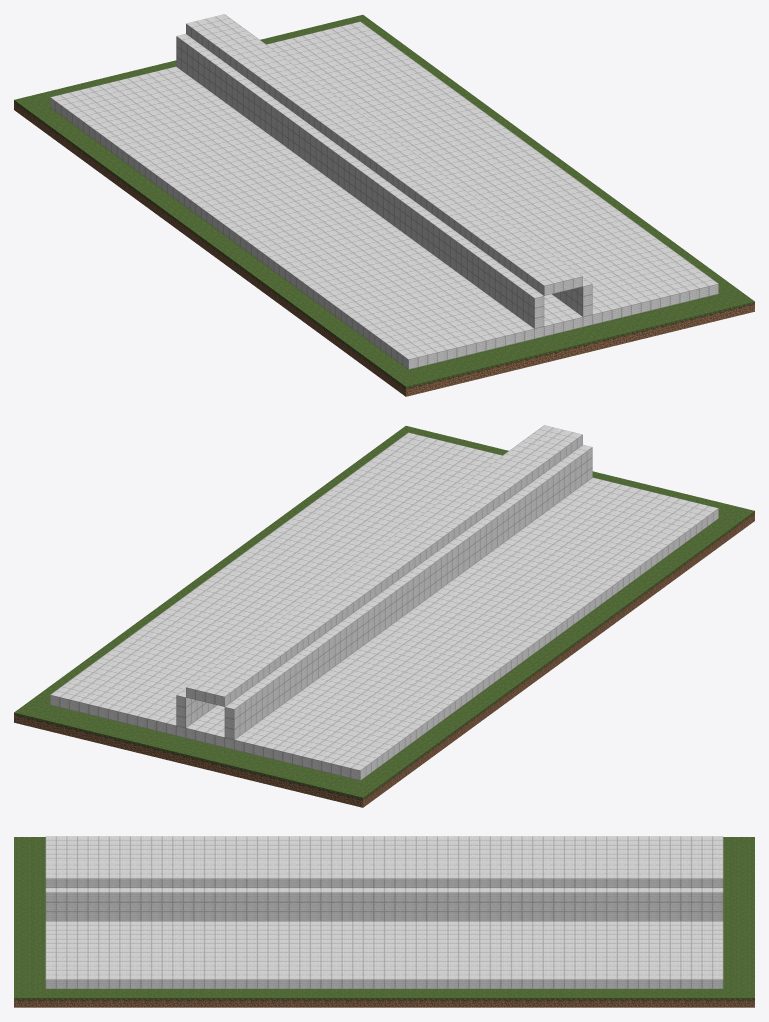
File: straight-pathway.obj
3 views of the same model, one above another, from view 1: azimuth 30°, elevation 25°; view 2: azimuth 150°, elevation 25°; view 3: azimuth 270°, elevation 25° (orthographic). The views are drawn at different scales.
Parts seen in each view (by area): view 1: Block_of_Iron, Grass_Block; view 2: Block_of_Iron, Grass_Block; view 3: Block_of_Iron, Grass_Block.
Boxes of the visible parts, x1,y1,x2,y2 form: Block_of_Iron: (50, 14, 718, 369); Grass_Block: (14, 15, 754, 396); Block_of_Iron: (50, 425, 718, 780); Grass_Block: (14, 426, 754, 807); Block_of_Iron: (45, 836, 723, 988); Grass_Block: (14, 837, 754, 1007).
Size of the model in its own units: 36 by 6 by 70.
Materials: 3 (3 with a texture image).
